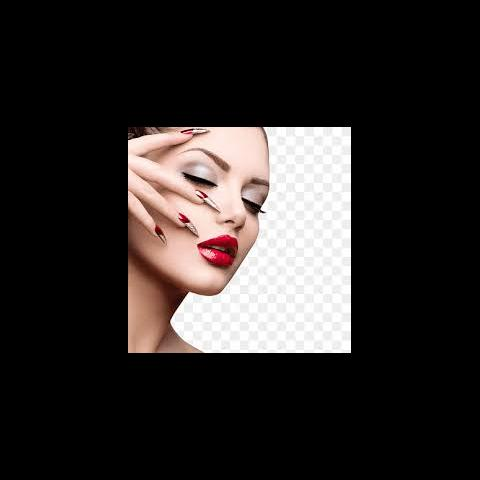closed: (172, 139, 273, 222)
